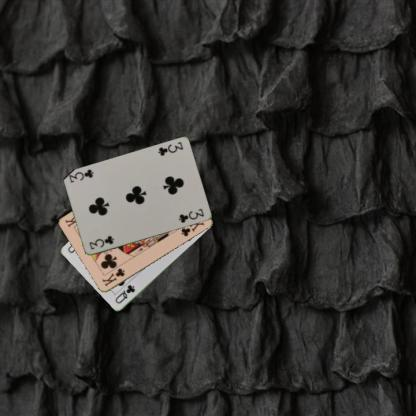3c: (86, 233, 116, 251), (156, 139, 184, 157)
Kc: (99, 266, 126, 288)
Qc: (112, 282, 136, 305)
